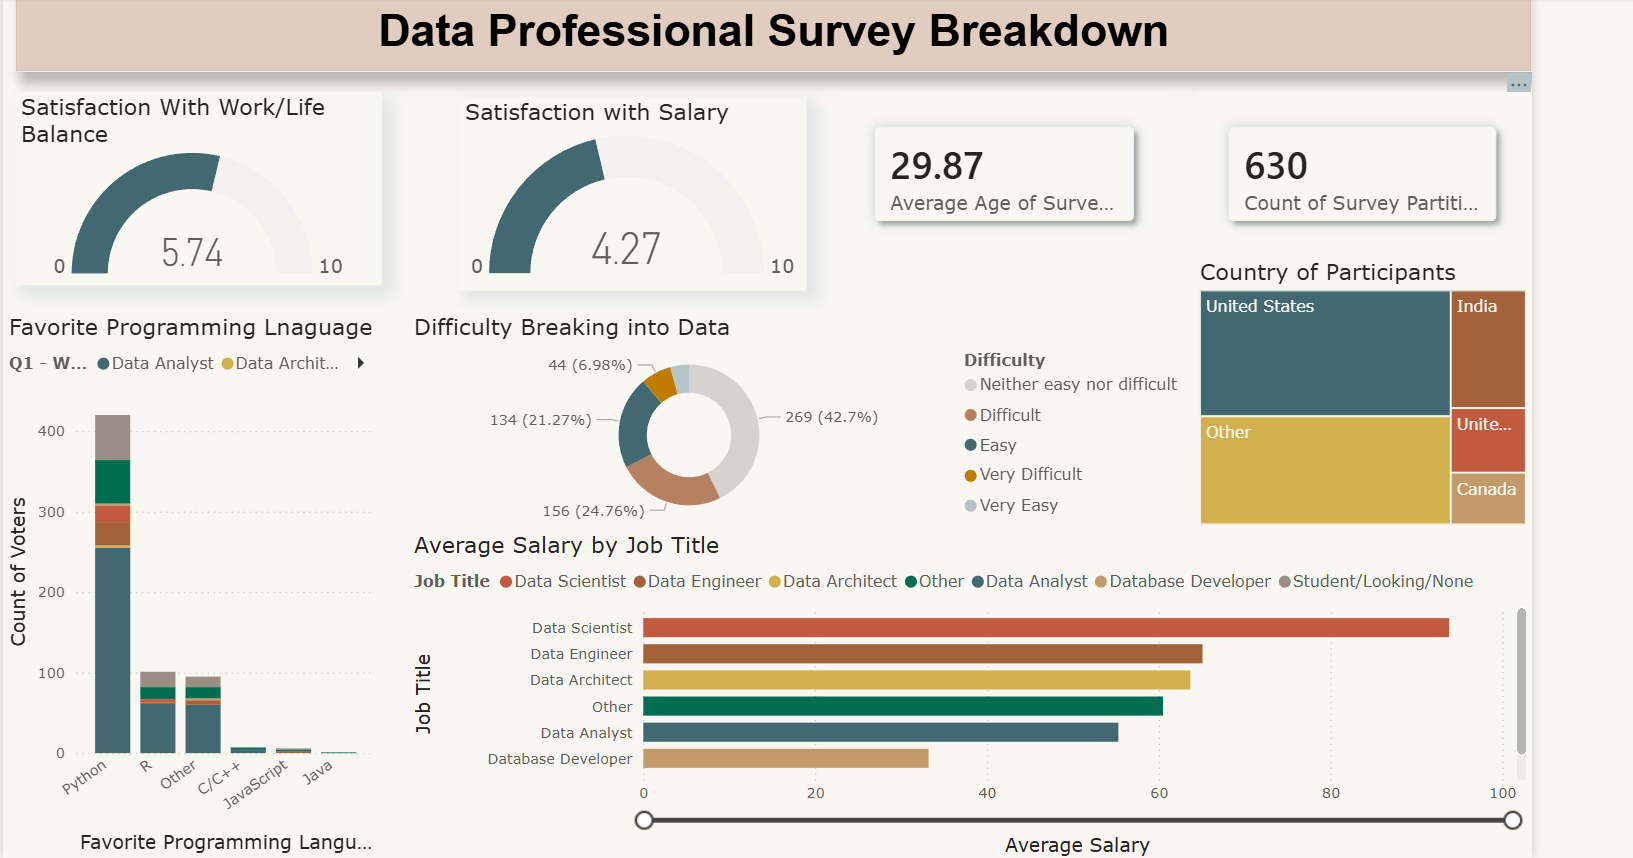

The page's visual inventory and layout, read from the dashboard file:
{"tool":"powerbi","page":{"name":"Page 1","canvas":[1280,720],"ordinal":0},"visuals":[{"type":"textbox","box":[9.7,0,1270.3,62.2],"z":0},{"type":"cardVisual","fields":{"Data":["CountNonNull(Data Professional Survey.Unique ID)"]},"box":[997.2,78.9,282.8,137.9],"z":1000},{"type":"cardVisual","fields":{"Data":["Avg(Data Professional Survey.Q10 - Current Age)"]},"box":[700.5,78.9,275.8,137.9],"z":2000},{"type":"barChart","title":"Average Salary by Job Title","fields":{"Category":["Data Professional Survey.Q1 - Which Title Best Fits your Current Role?.1"],"Y":["Avg(Data Professional Survey.Average Salary)"],"Series":["Data Professional Survey.Q1 - Which Title Best Fits your Current Role?.1"]},"box":[338.7,445.7,941.3,274.8],"z":3000},{"type":"columnChart","title":"Favorite Programming Lnaguage","fields":{"Category":["Data Professional Survey.Q5 - Favorite Programming Language.1"],"Y":["CountNonNull(Data Professional Survey.Unique ID)"],"Series":["Data Professional Survey.Q1 - Which Title Best Fits your Current Role?.1"]},"box":[0,262.8,316.8,457.6],"z":4000},{"type":"treemap","title":"Country of Participants","fields":{"Group":["Data Professional Survey.Q11 - Which Country do you live in?.1"],"Values":["CountNonNull(Data Professional Survey.Q11 - Which Country do you live in?.1)"]},"box":[997.2,216.8,282.8,228.8],"z":5000},{"type":"gauge","title":"Satisfaction With Work/Life Balance","fields":{"Y":["Avg(Data Professional Survey.Q6 - How Happy are you in your Current Position with the following? (Work/Life Balance))"],"MinValue":["Min(Data Professional Survey.Q6 - How Happy are you in your Current Position with the following? (Work/Life Balance))1"],"MaxValue":["Max(Data Professional Survey.Q6 - How Happy are you in your Current Position with the following? (Work/Life Balance))"]},"box":[10,78.9,306.8,161.9],"z":6000},{"type":"gauge","title":"Satisfaction with  Salary","fields":{"Y":["Avg(Data Professional Survey.Q6 - How Happy are you in your Current Position with the following? (Salary))"],"MinValue":["Min(Data Professional Survey.Q6 - How Happy are you in your Current Position with the following? (Salary))"],"MaxValue":["Max(Data Professional Survey.Q6 - How Happy are you in your Current Position with the following? (Salary))"]},"box":[381.7,82.9,290.8,161.9],"z":7000},{"type":"donutChart","title":"Difficulty Breaking into Data","fields":{"Category":["Data Professional Survey.Q7 - How difficult was it for you to break into Data?"],"Y":["CountNonNull(Data Professional Survey.Q7 - How difficult was it for you to break into Data?)"]},"box":[338.7,262.8,658.5,182.9],"z":8000}]}

Visuals, with their boxes on the page's 1280x720 design canvas (x1, y1, x2, y2). These are canvas units, not pixel positions in the 1633x858 screenshot, which may show the page scaled, cropped or inside an application window:
textbox: [10,0,1280,62]
cardVisual - CountNonNull(Data Professional Survey.Unique ID): [997,79,1280,217]
cardVisual - Avg(Data Professional Survey.Q10 - Current Age): [700,79,976,217]
"Average Salary by Job Title" barChart: [339,446,1280,720]
"Favorite Programming Lnaguage" columnChart: [0,263,317,720]
"Country of Participants" treemap: [997,217,1280,446]
"Satisfaction With Work/Life Balance" gauge: [10,79,317,241]
"Satisfaction with  Salary" gauge: [382,83,672,245]
"Difficulty Breaking into Data" donutChart: [339,263,997,446]
